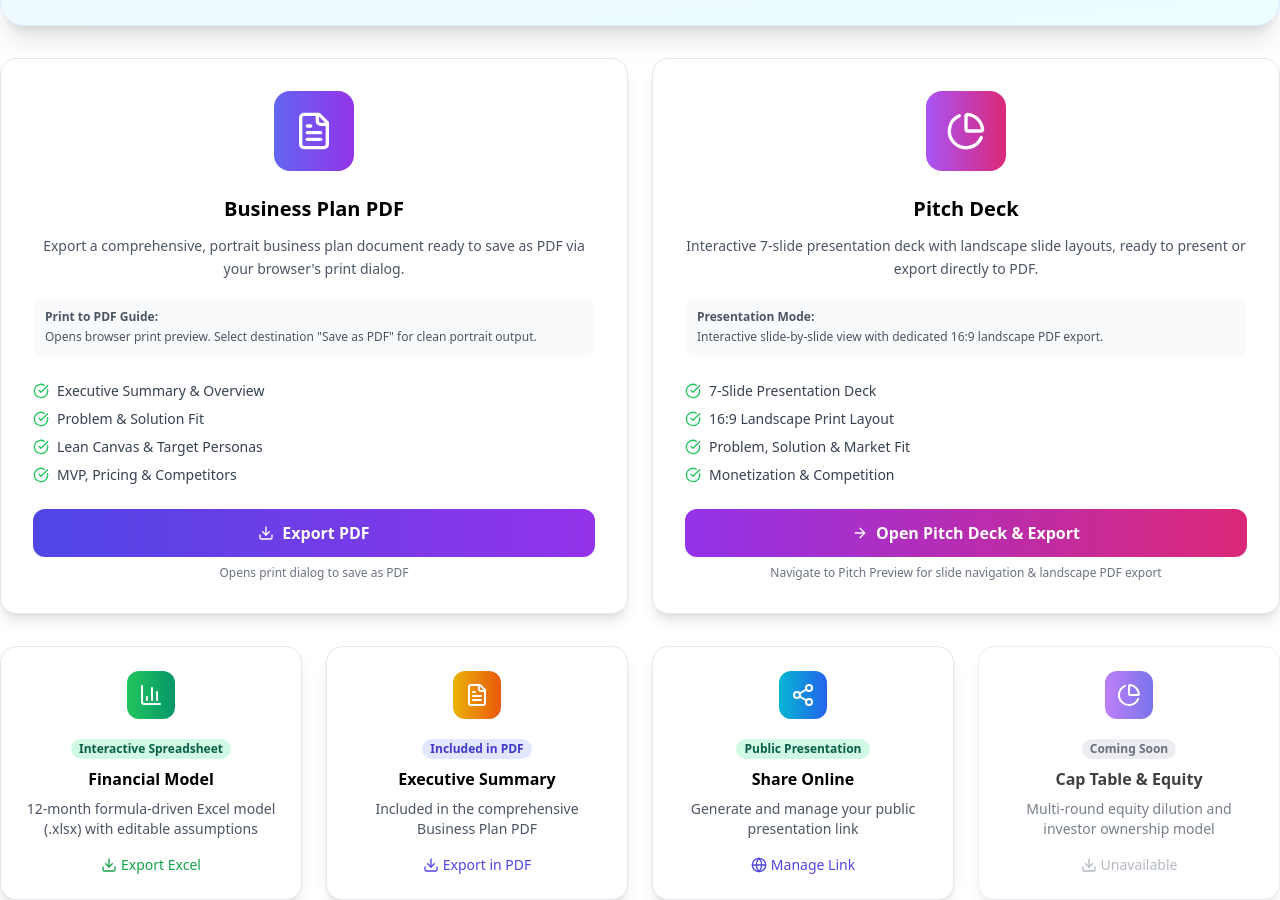
it: Print Views and Export UI › ExportTab handles dynamic import failure gracefully with error feedback
The image size is (1280, 900).
(page scrolled)
Click the button "Export Excel": [151, 864] box [101,854,201,874]
(page scrolled)
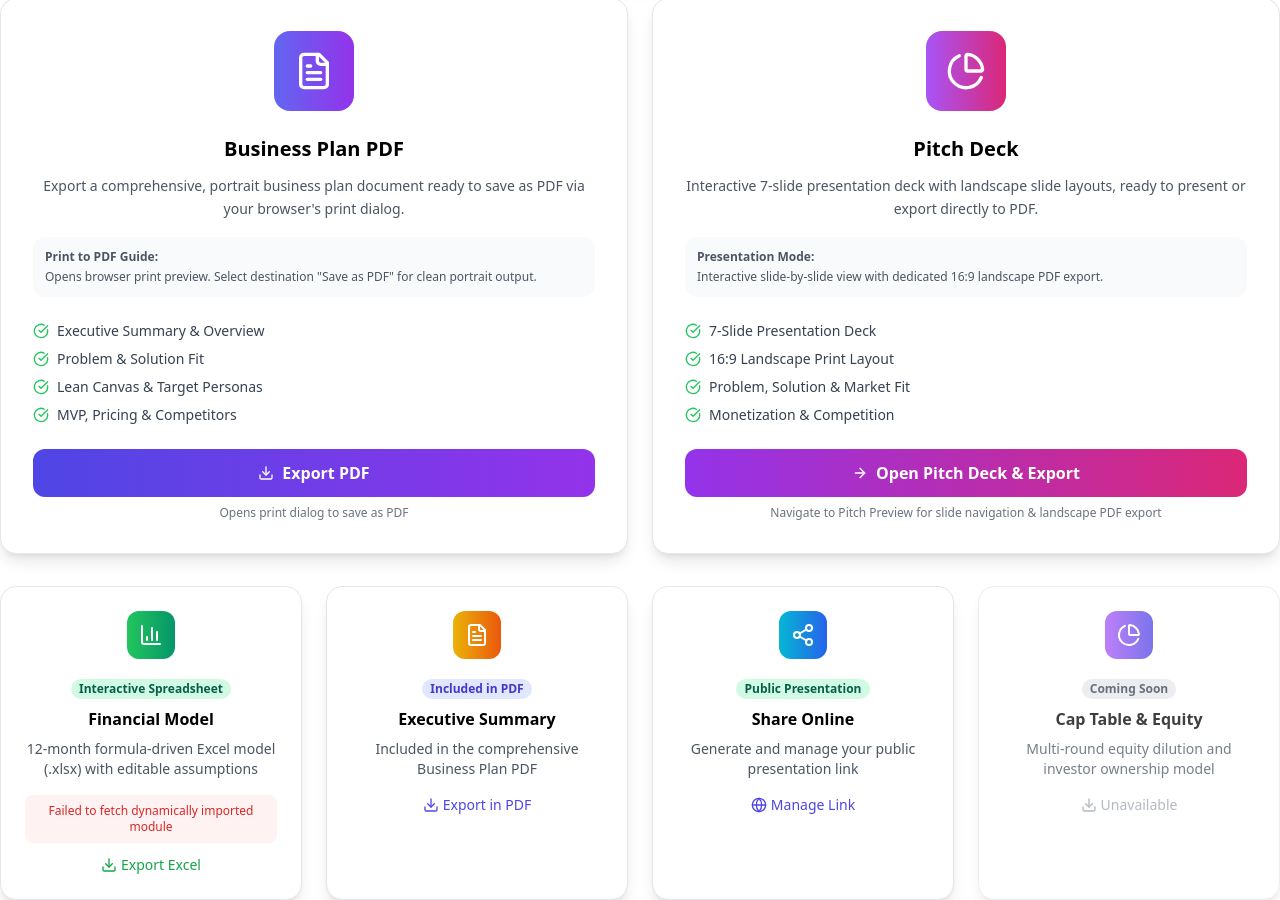
Check: the text "Failed to fetch dynamically imported module" is shown, box [25,794,277,842]
